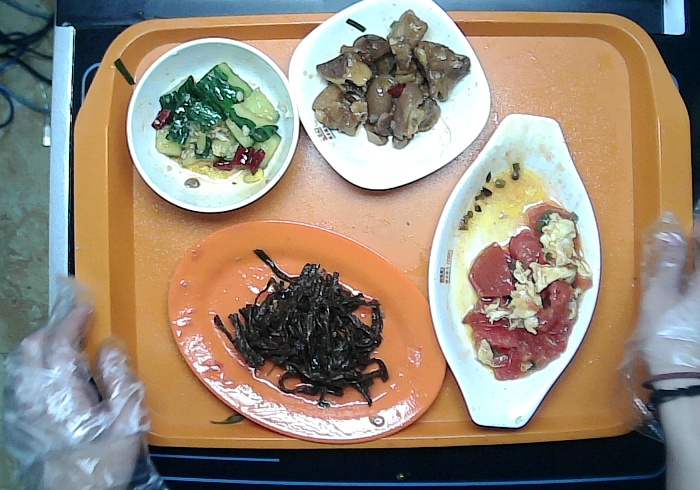NLDX-Bai_Se_Xiao_Fang_Die: (287, 1, 490, 191)
NLDX-Fan_Wan: (126, 38, 300, 211)
NLDX-Ju_Se_Pan: (168, 219, 447, 442)
NLDX-Yu_Pan: (429, 112, 602, 428)
